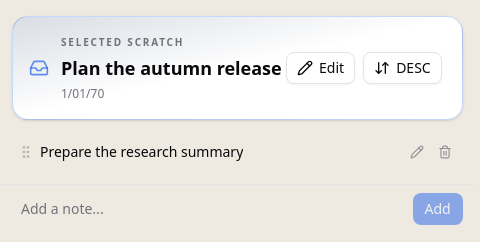
Test case: Task167 L2 shared theme conformance › preserves accessible Context Edit and sort while selecting their decoration in griddo
expect the text "Edit" is shown: met, box [319,58,344,78]
expect the button "Edit" is enabled: met, box [286,52,355,84]
Click the button named "Sort: newest first" at [402, 68], box [363,52,442,84]
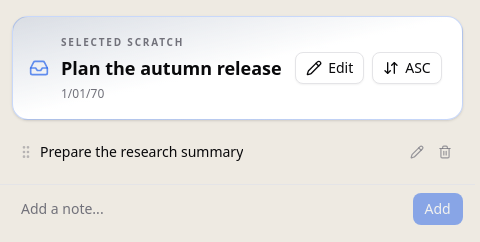
expect the text "ASC" is shown: met, box [405,58,431,77]
